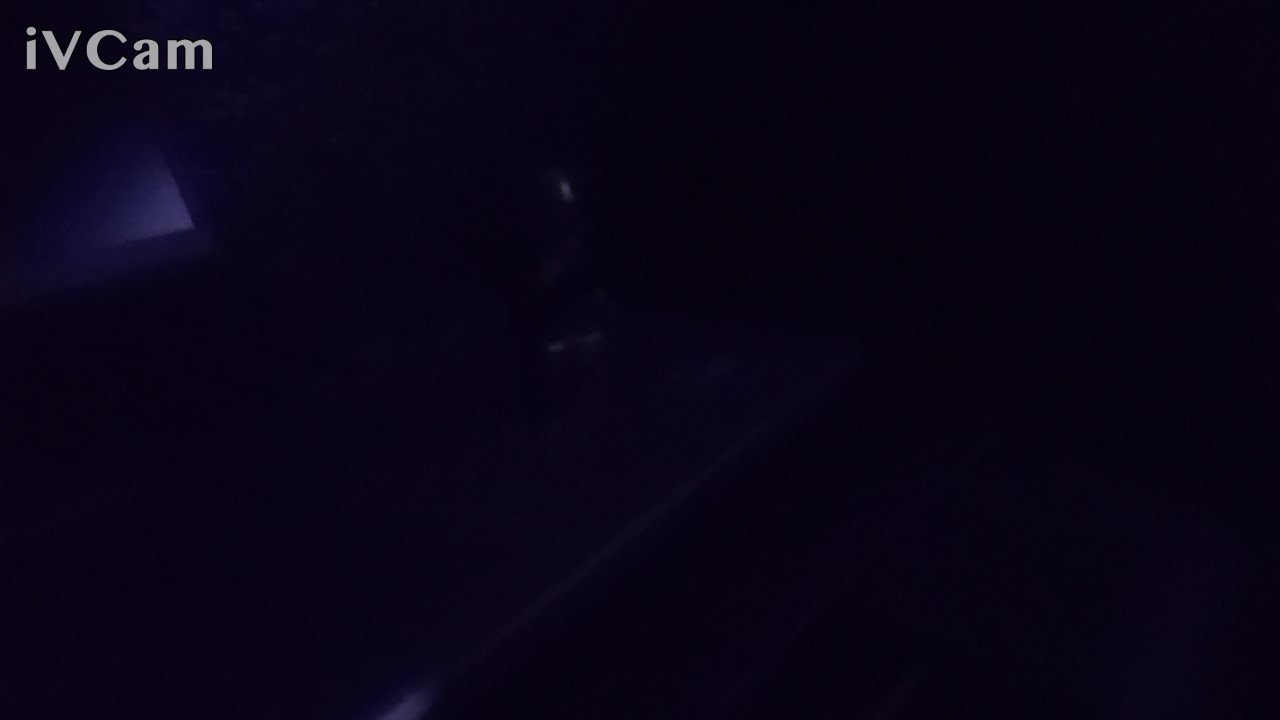mandalorian: (471, 145, 648, 448)
